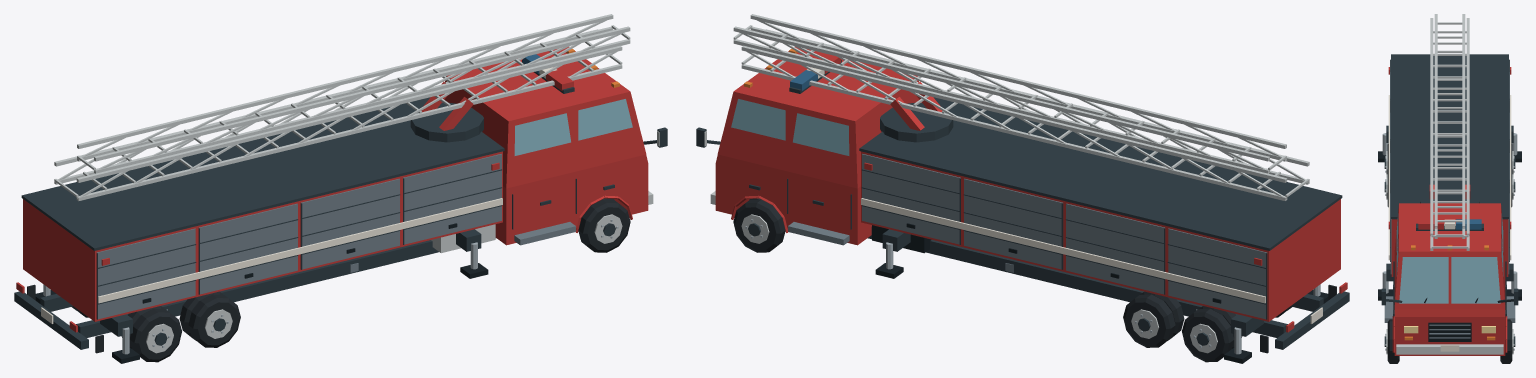
The model's file is b15_aerial_ladder_fire_truck.glb.
3 views of the same model, side by side, from view 1: azimuth 30°, elevation 25°; view 2: azimuth 150°, elevation 25°; view 3: azimuth 270°, elevation 25° (orthographic). The views are drawn at different scales.
Visible parts, largest first — view 1: b15_aerial_ladder_fire_truck; view 2: b15_aerial_ladder_fire_truck; view 3: b15_aerial_ladder_fire_truck.
Boxes of the visible parts, box(x1,y1,x2,y2) form: b15_aerial_ladder_fire_truck: box(14, 14, 667, 363); b15_aerial_ladder_fire_truck: box(696, 14, 1349, 363); b15_aerial_ladder_fire_truck: box(1378, 14, 1521, 363).
Size of the model in its own units: 11.65 by 3.69 by 3.08.
